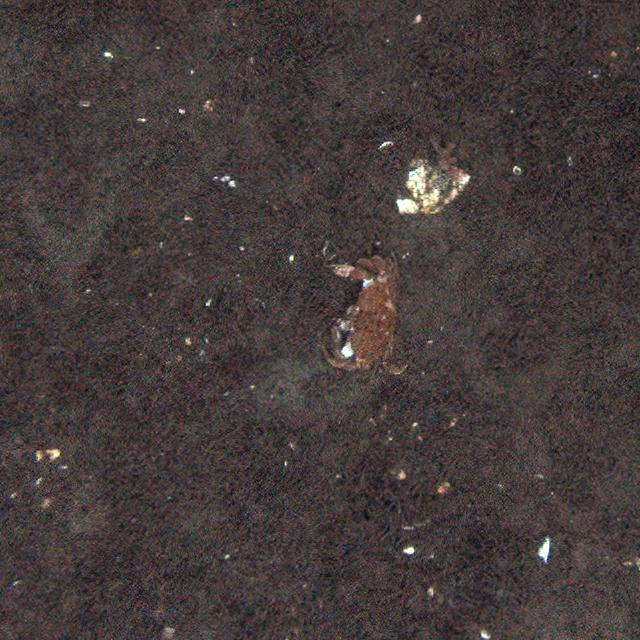crab: (321, 252, 409, 379)
